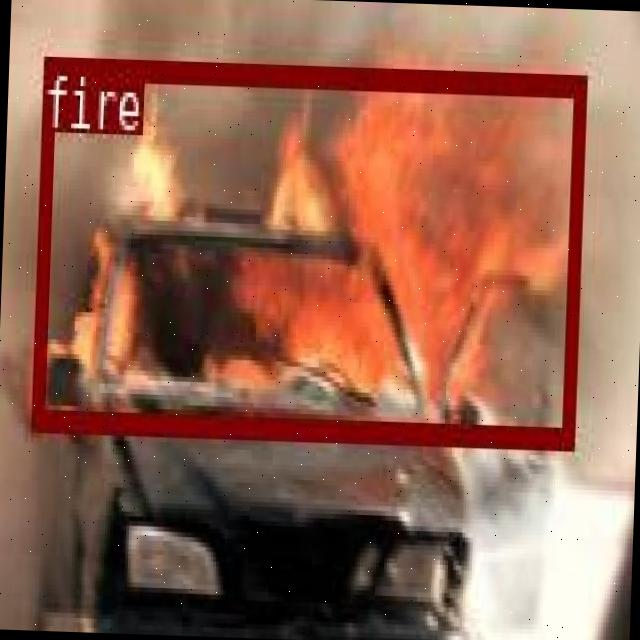fire: (30, 54, 583, 443)
